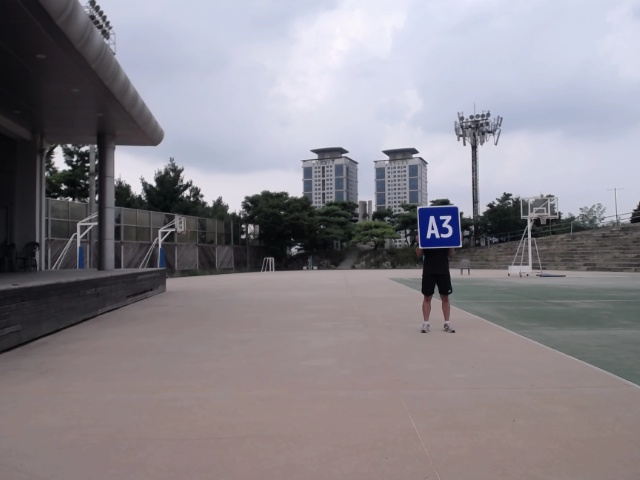delivery_a3: (418, 206, 461, 248)
